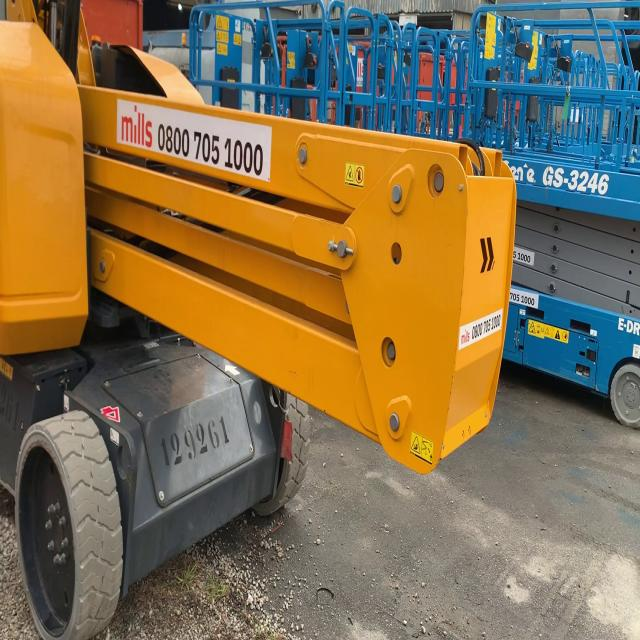Adesivo Longo: (115, 95, 274, 184), (458, 307, 504, 353)
